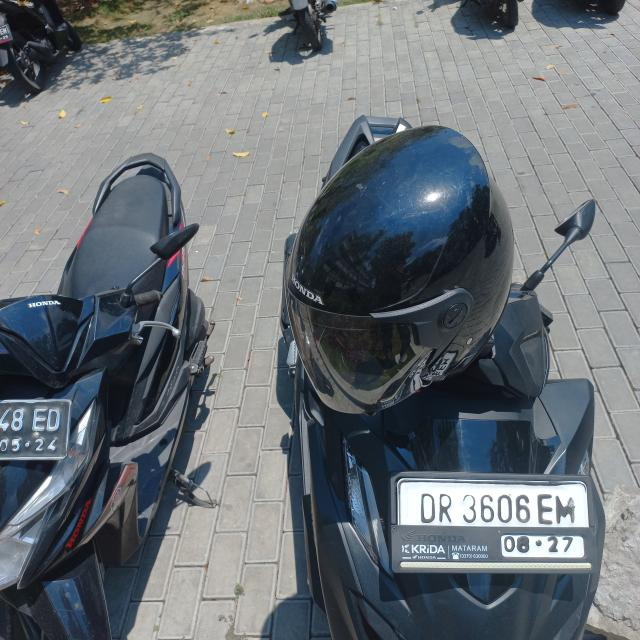plate: (393, 476, 592, 561), (0, 401, 71, 462)
